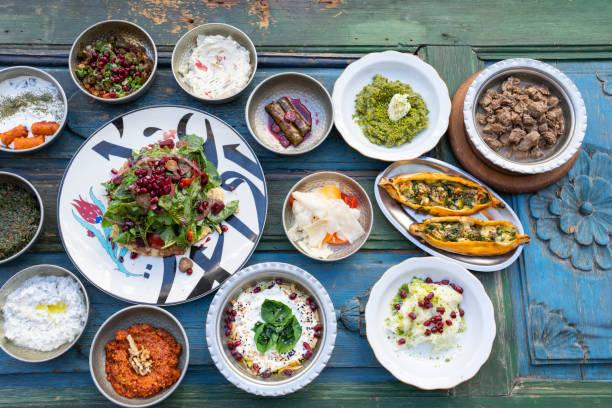Braised Crucian Carp: (56, 105, 263, 305), (363, 256, 499, 390), (205, 260, 335, 395), (459, 57, 585, 177), (330, 49, 450, 162)
